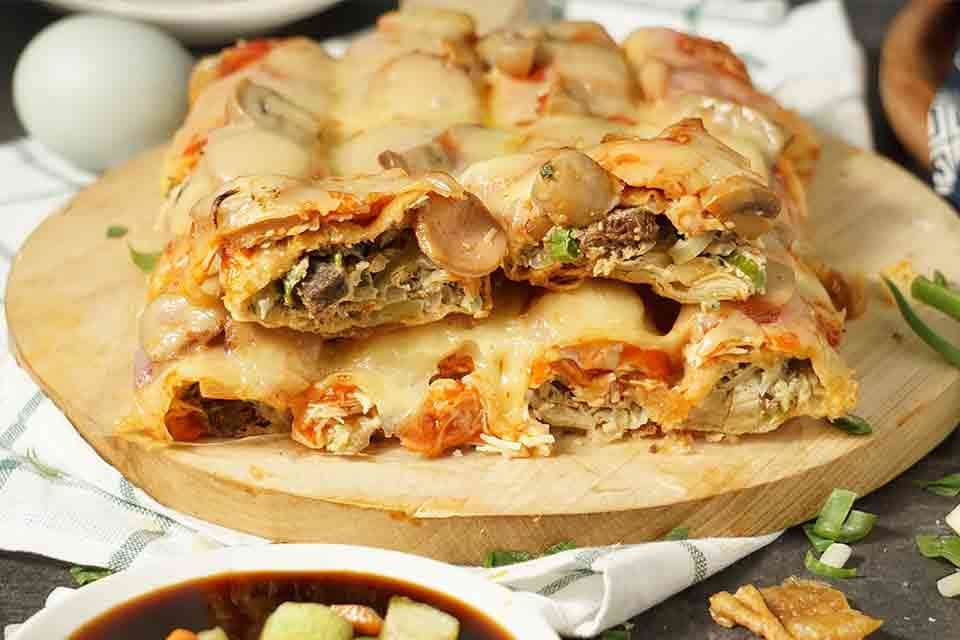martabak: (139, 5, 860, 451)
